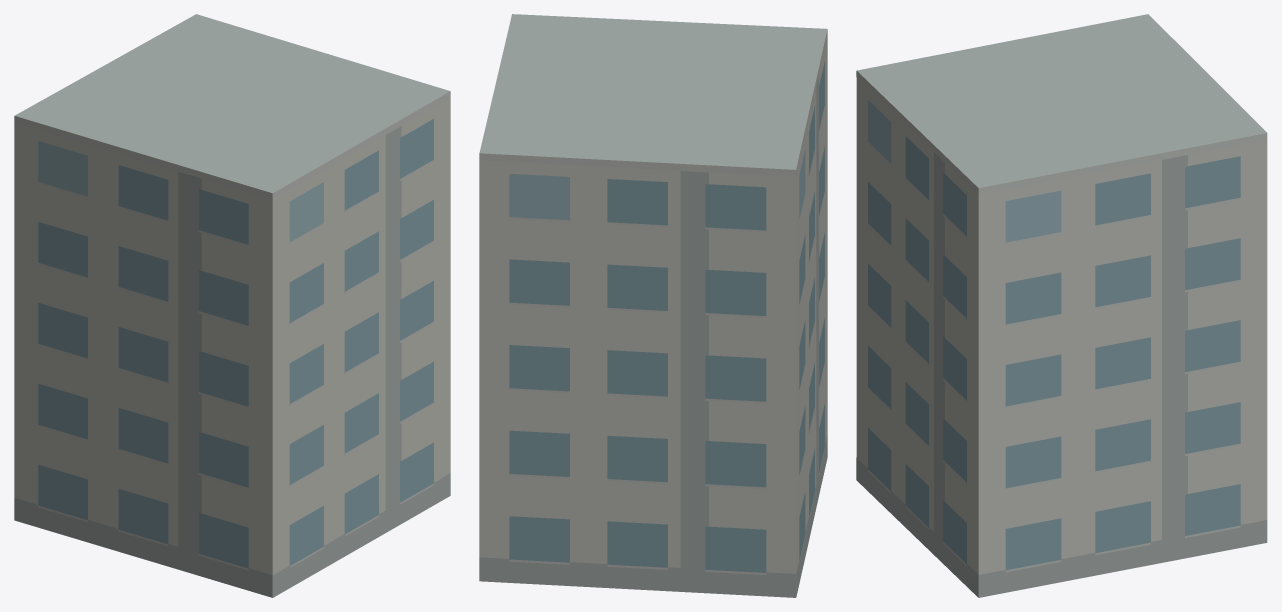
The model's file is survey-upis-32941689.glb.
3 renders of one model, left to right at view 1: azimuth 30°, elevation 25°; view 2: azimuth 150°, elevation 25°; view 3: azimuth 270°, elevation 25°, orthographic. The views are drawn at different scales.
Visible parts, largest first — view 1: survey-upis-32941689.tmp; view 2: survey-upis-32941689.tmp; view 3: survey-upis-32941689.tmp.
Part boxes in pixels (x1,y1,x2,y2): survey-upis-32941689.tmp: [14, 14, 450, 597]; survey-upis-32941689.tmp: [479, 14, 827, 597]; survey-upis-32941689.tmp: [856, 14, 1267, 597].
Size of the model in its own units: 13.36 by 14.65 by 13.32.
